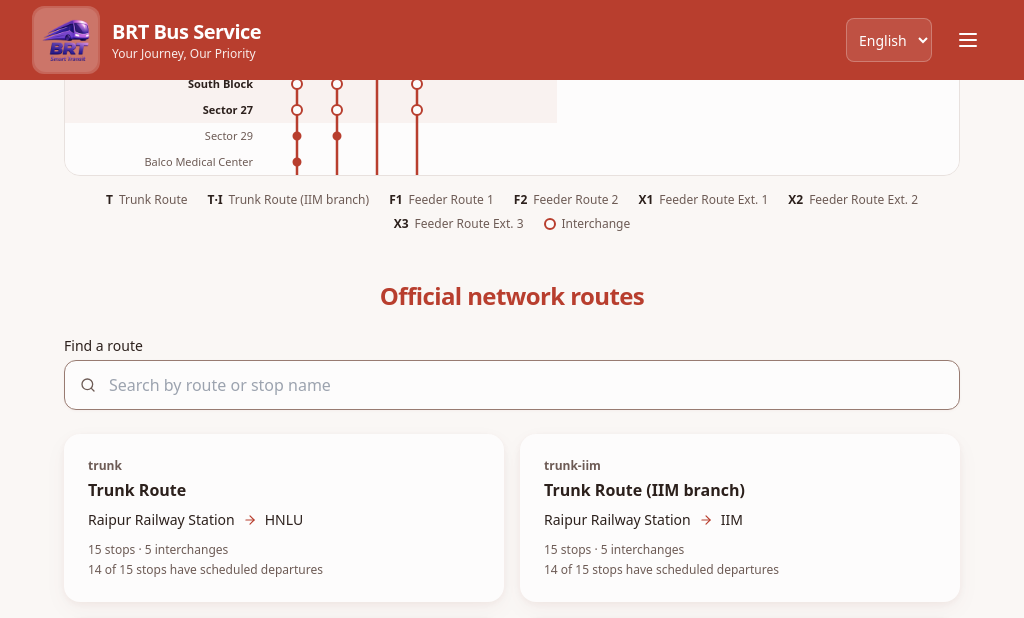
Test: searching for a route › says so when nothing matches
The image size is (1024, 618).
(page scrolled)
In the search field labelled "Find a route": (512, 385) [64,360,960,410], type "zzz"
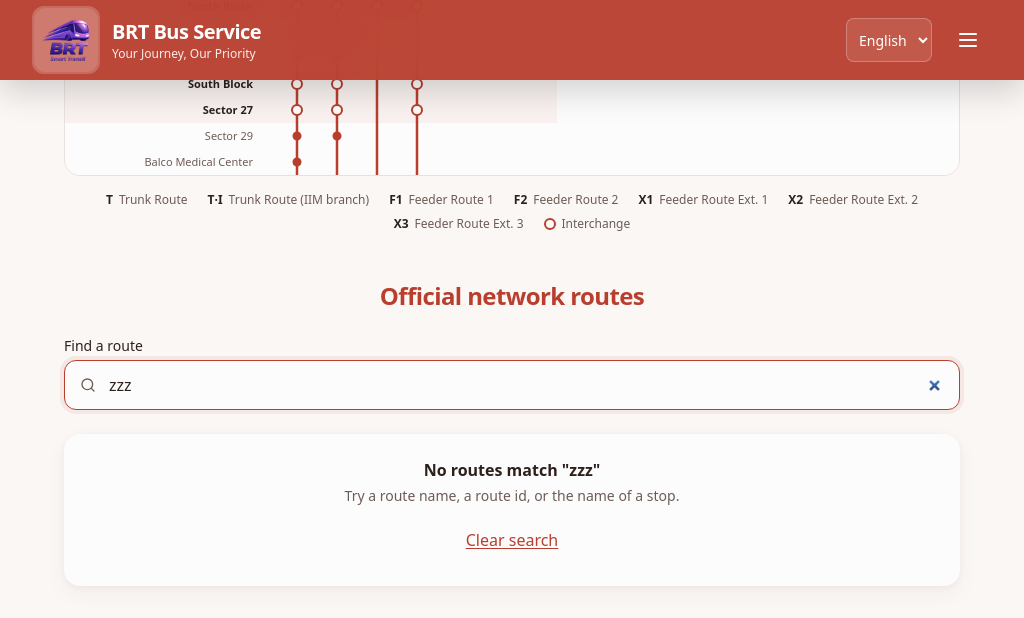
Check: the text "No routes match \"zzz\"" is shown, box [424,459,600,481]
